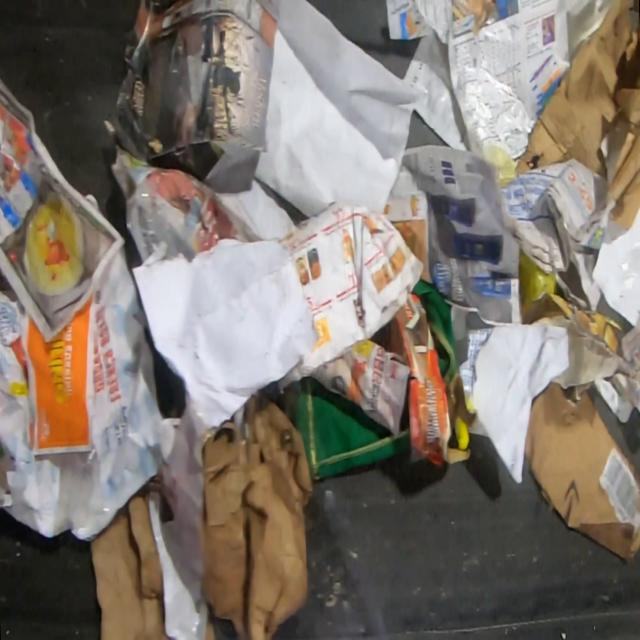cardboard: (514, 1, 640, 230), (205, 389, 314, 640), (526, 380, 640, 561), (92, 487, 165, 639), (202, 612, 216, 639)
rigid_plastic: (293, 476, 391, 640)
soft_plastic: (124, 186, 202, 265), (56, 450, 109, 532), (520, 248, 556, 309), (487, 144, 514, 190)
